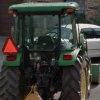Tractor: (6, 1, 87, 100)
